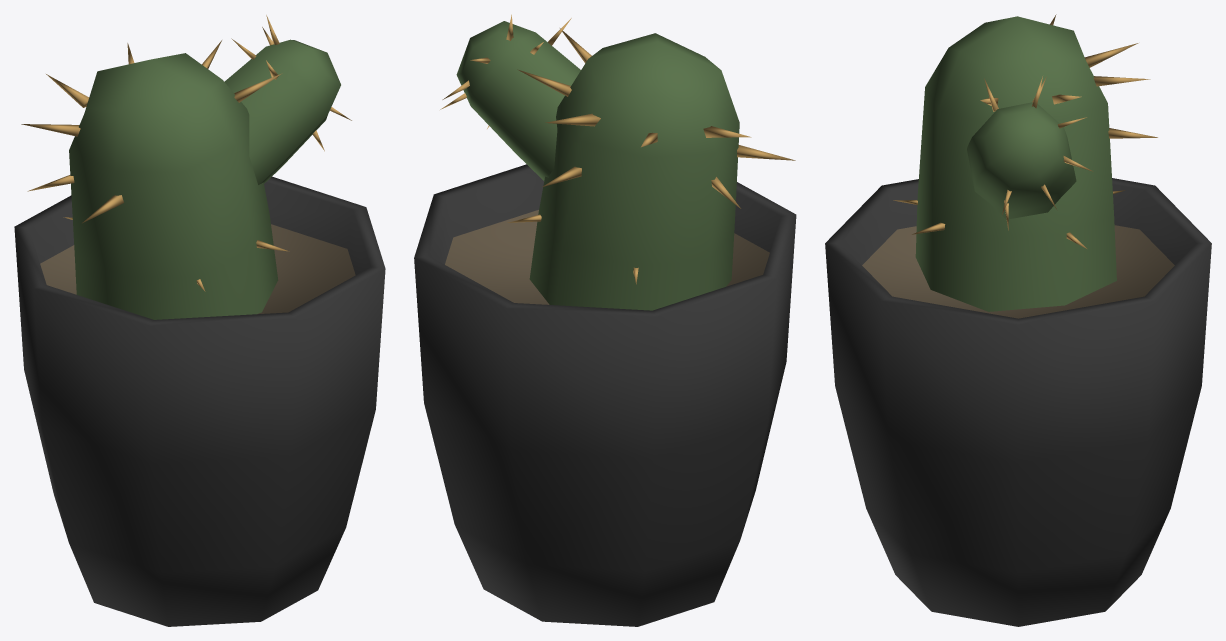
Rendered from Houseplant_2.glb.
3 renders of one model, left to right at view 1: azimuth 30°, elevation 25°; view 2: azimuth 150°, elevation 25°; view 3: azimuth 270°, elevation 25°, orthographic. The views are drawn at different scales.
Visible parts, largest first — view 1: Houseplant_2; view 2: Houseplant_2; view 3: Houseplant_2.
Part boxes in pixels (left/top/right/bottom): Houseplant_2: left=14, top=15, right=385, bottom=626; Houseplant_2: left=414, top=14, right=796, bottom=626; Houseplant_2: left=825, top=14, right=1211, bottom=626.
Size of the model in its own units: 0.2506 by 0.3849 by 0.2506.
